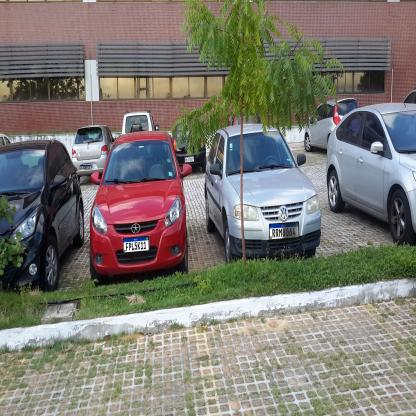PlacaM: (269, 222, 299, 240), (123, 236, 149, 253), (80, 165, 91, 169)
